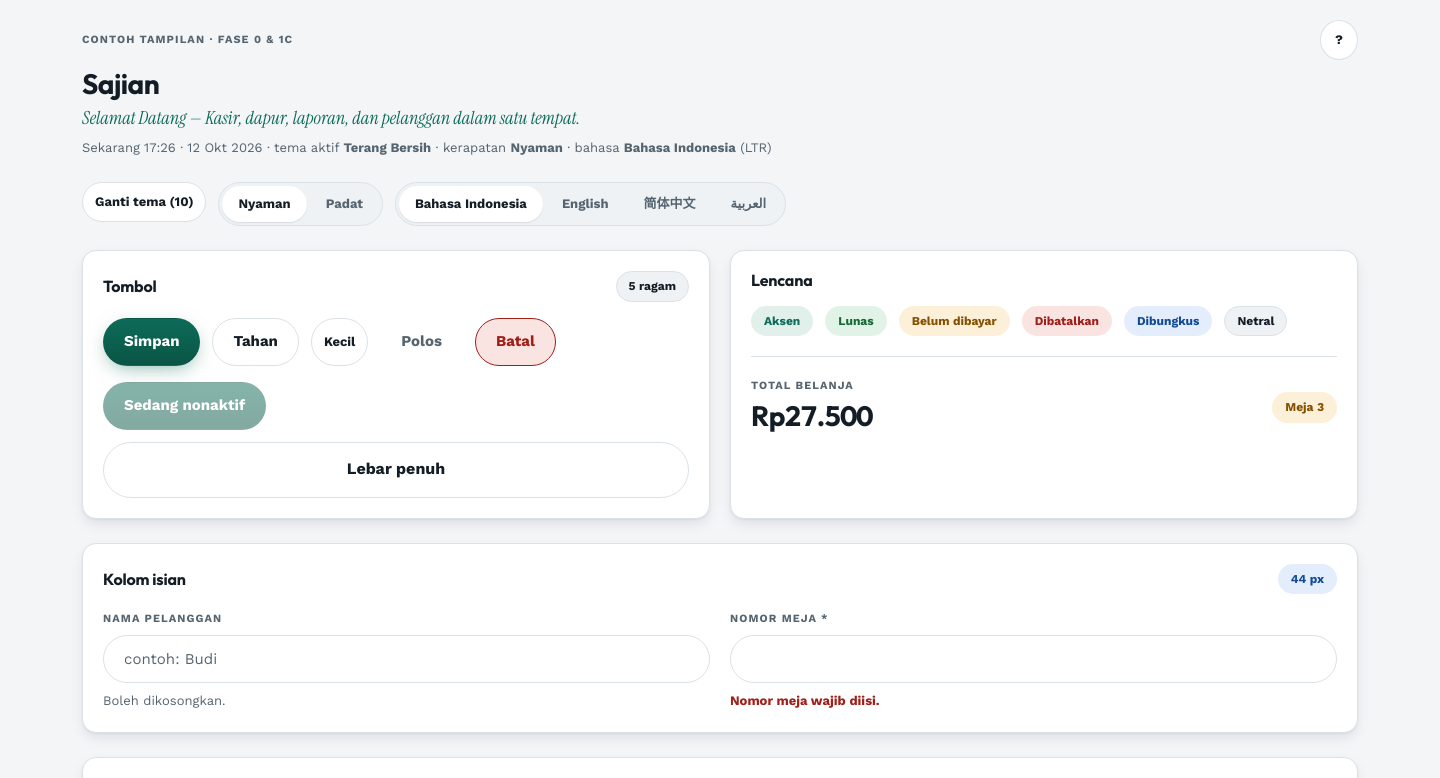
Test: kontrol tema & kerapatan di layar contoh › mengganti tema benar-benar mengubah elemen akar & tersimpan
Click the button with aria-label "Pilih tema": [144, 202] box [82,182,206,222]
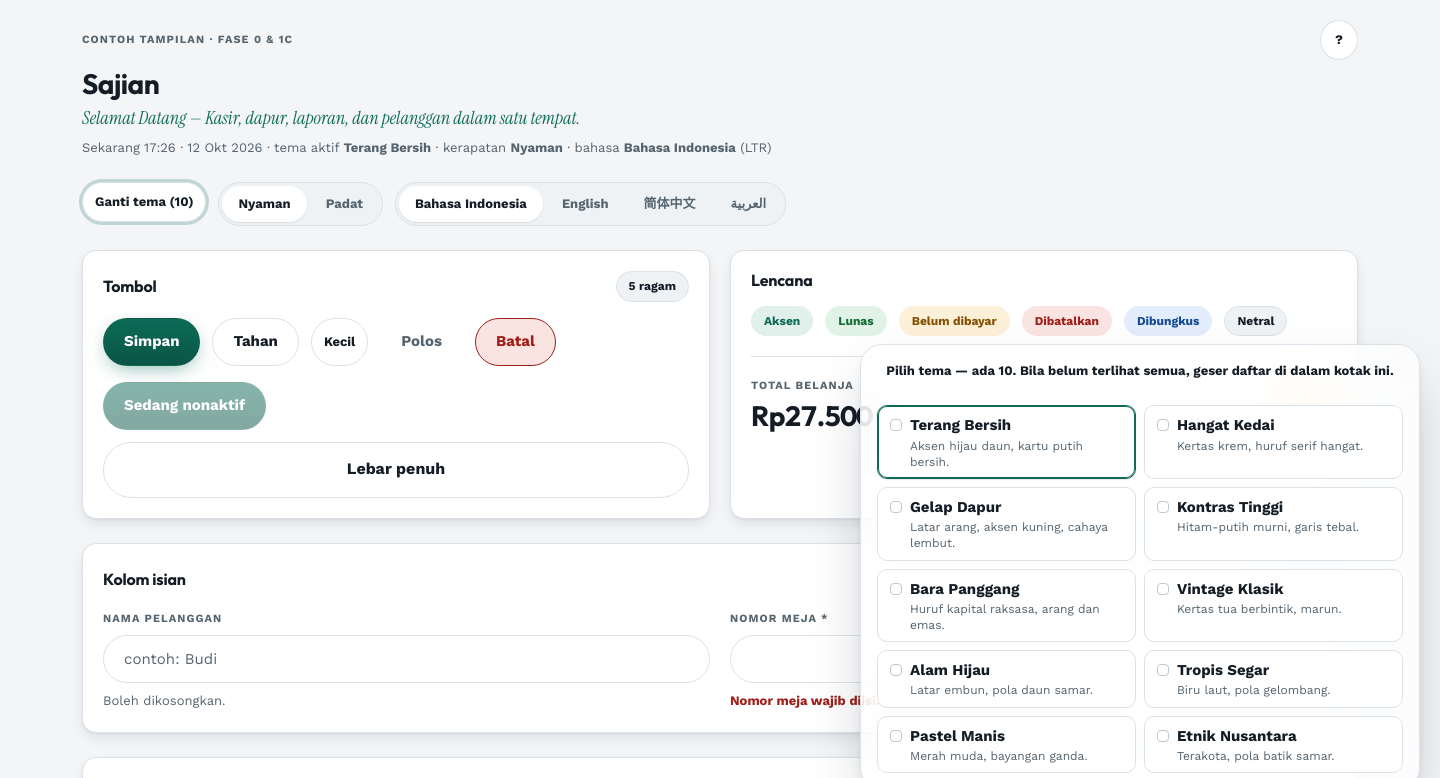
Click the text "Etnik Nusantara": [1237, 736] box [1177,727,1297,745]
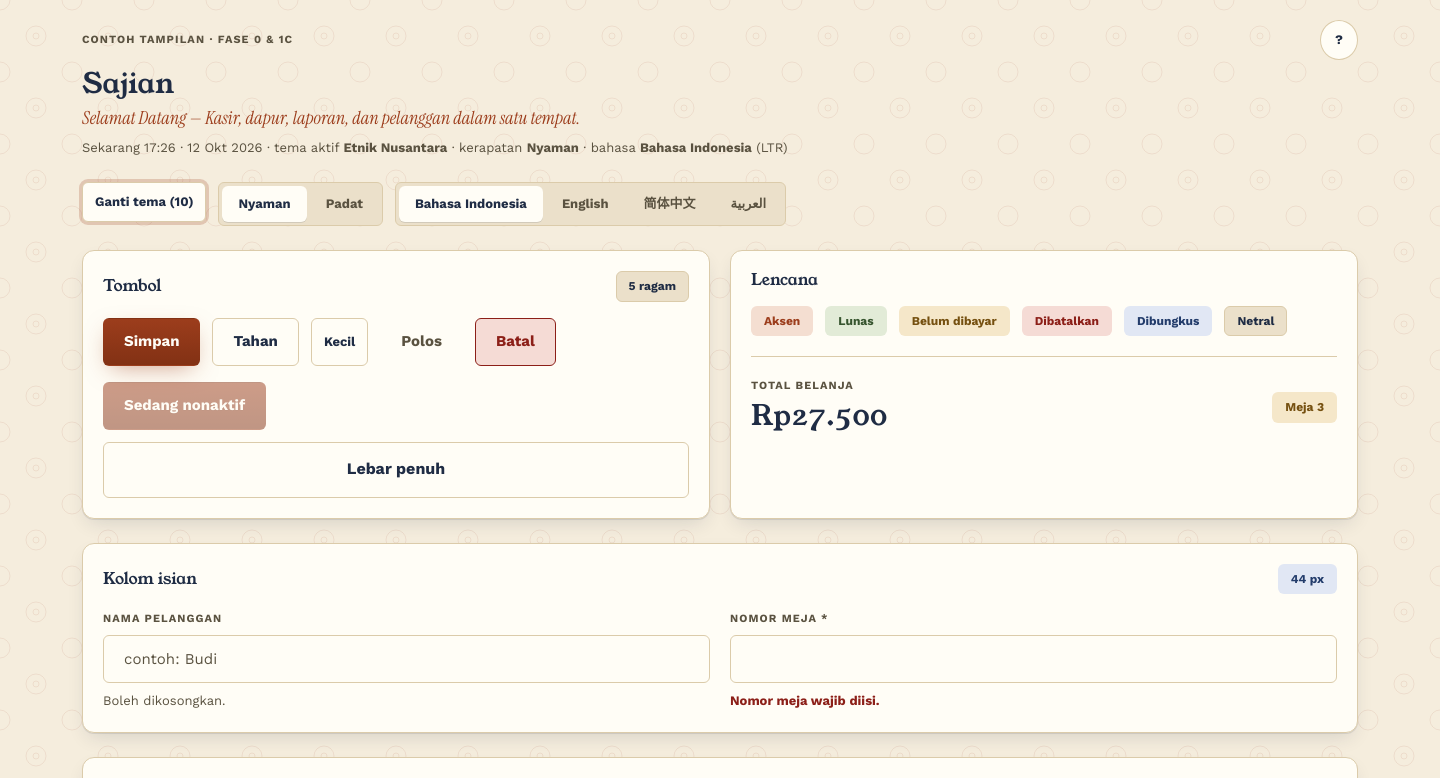
Check: the text "tema aktif Etnik Nusantara" is shown, box [82,140,788,155]
